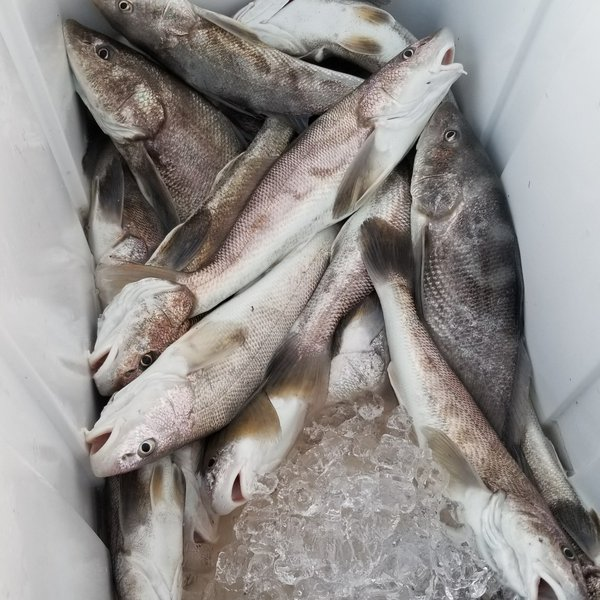kiss: (155, 14, 472, 301)
